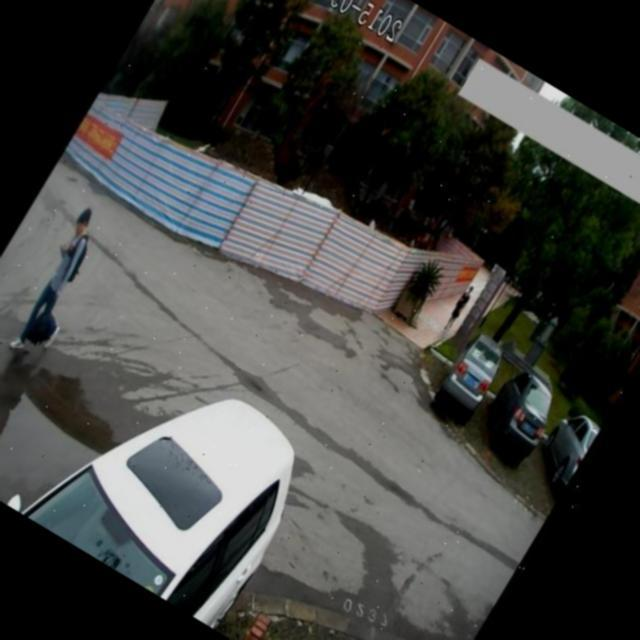person: (0, 199, 123, 374), (438, 278, 481, 335)
